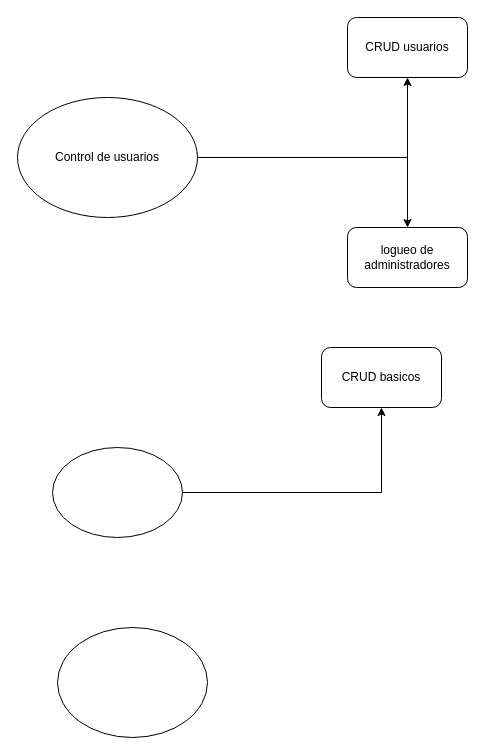
Some shapes in this 485 by 755 pixel diagram are drawn without their labels. Each missing label, with the centre of its shape:
"Configuraciones y mantenimiento del sistema" goes at (132,682).
"Control de planes y actividades" goes at (117,492).
